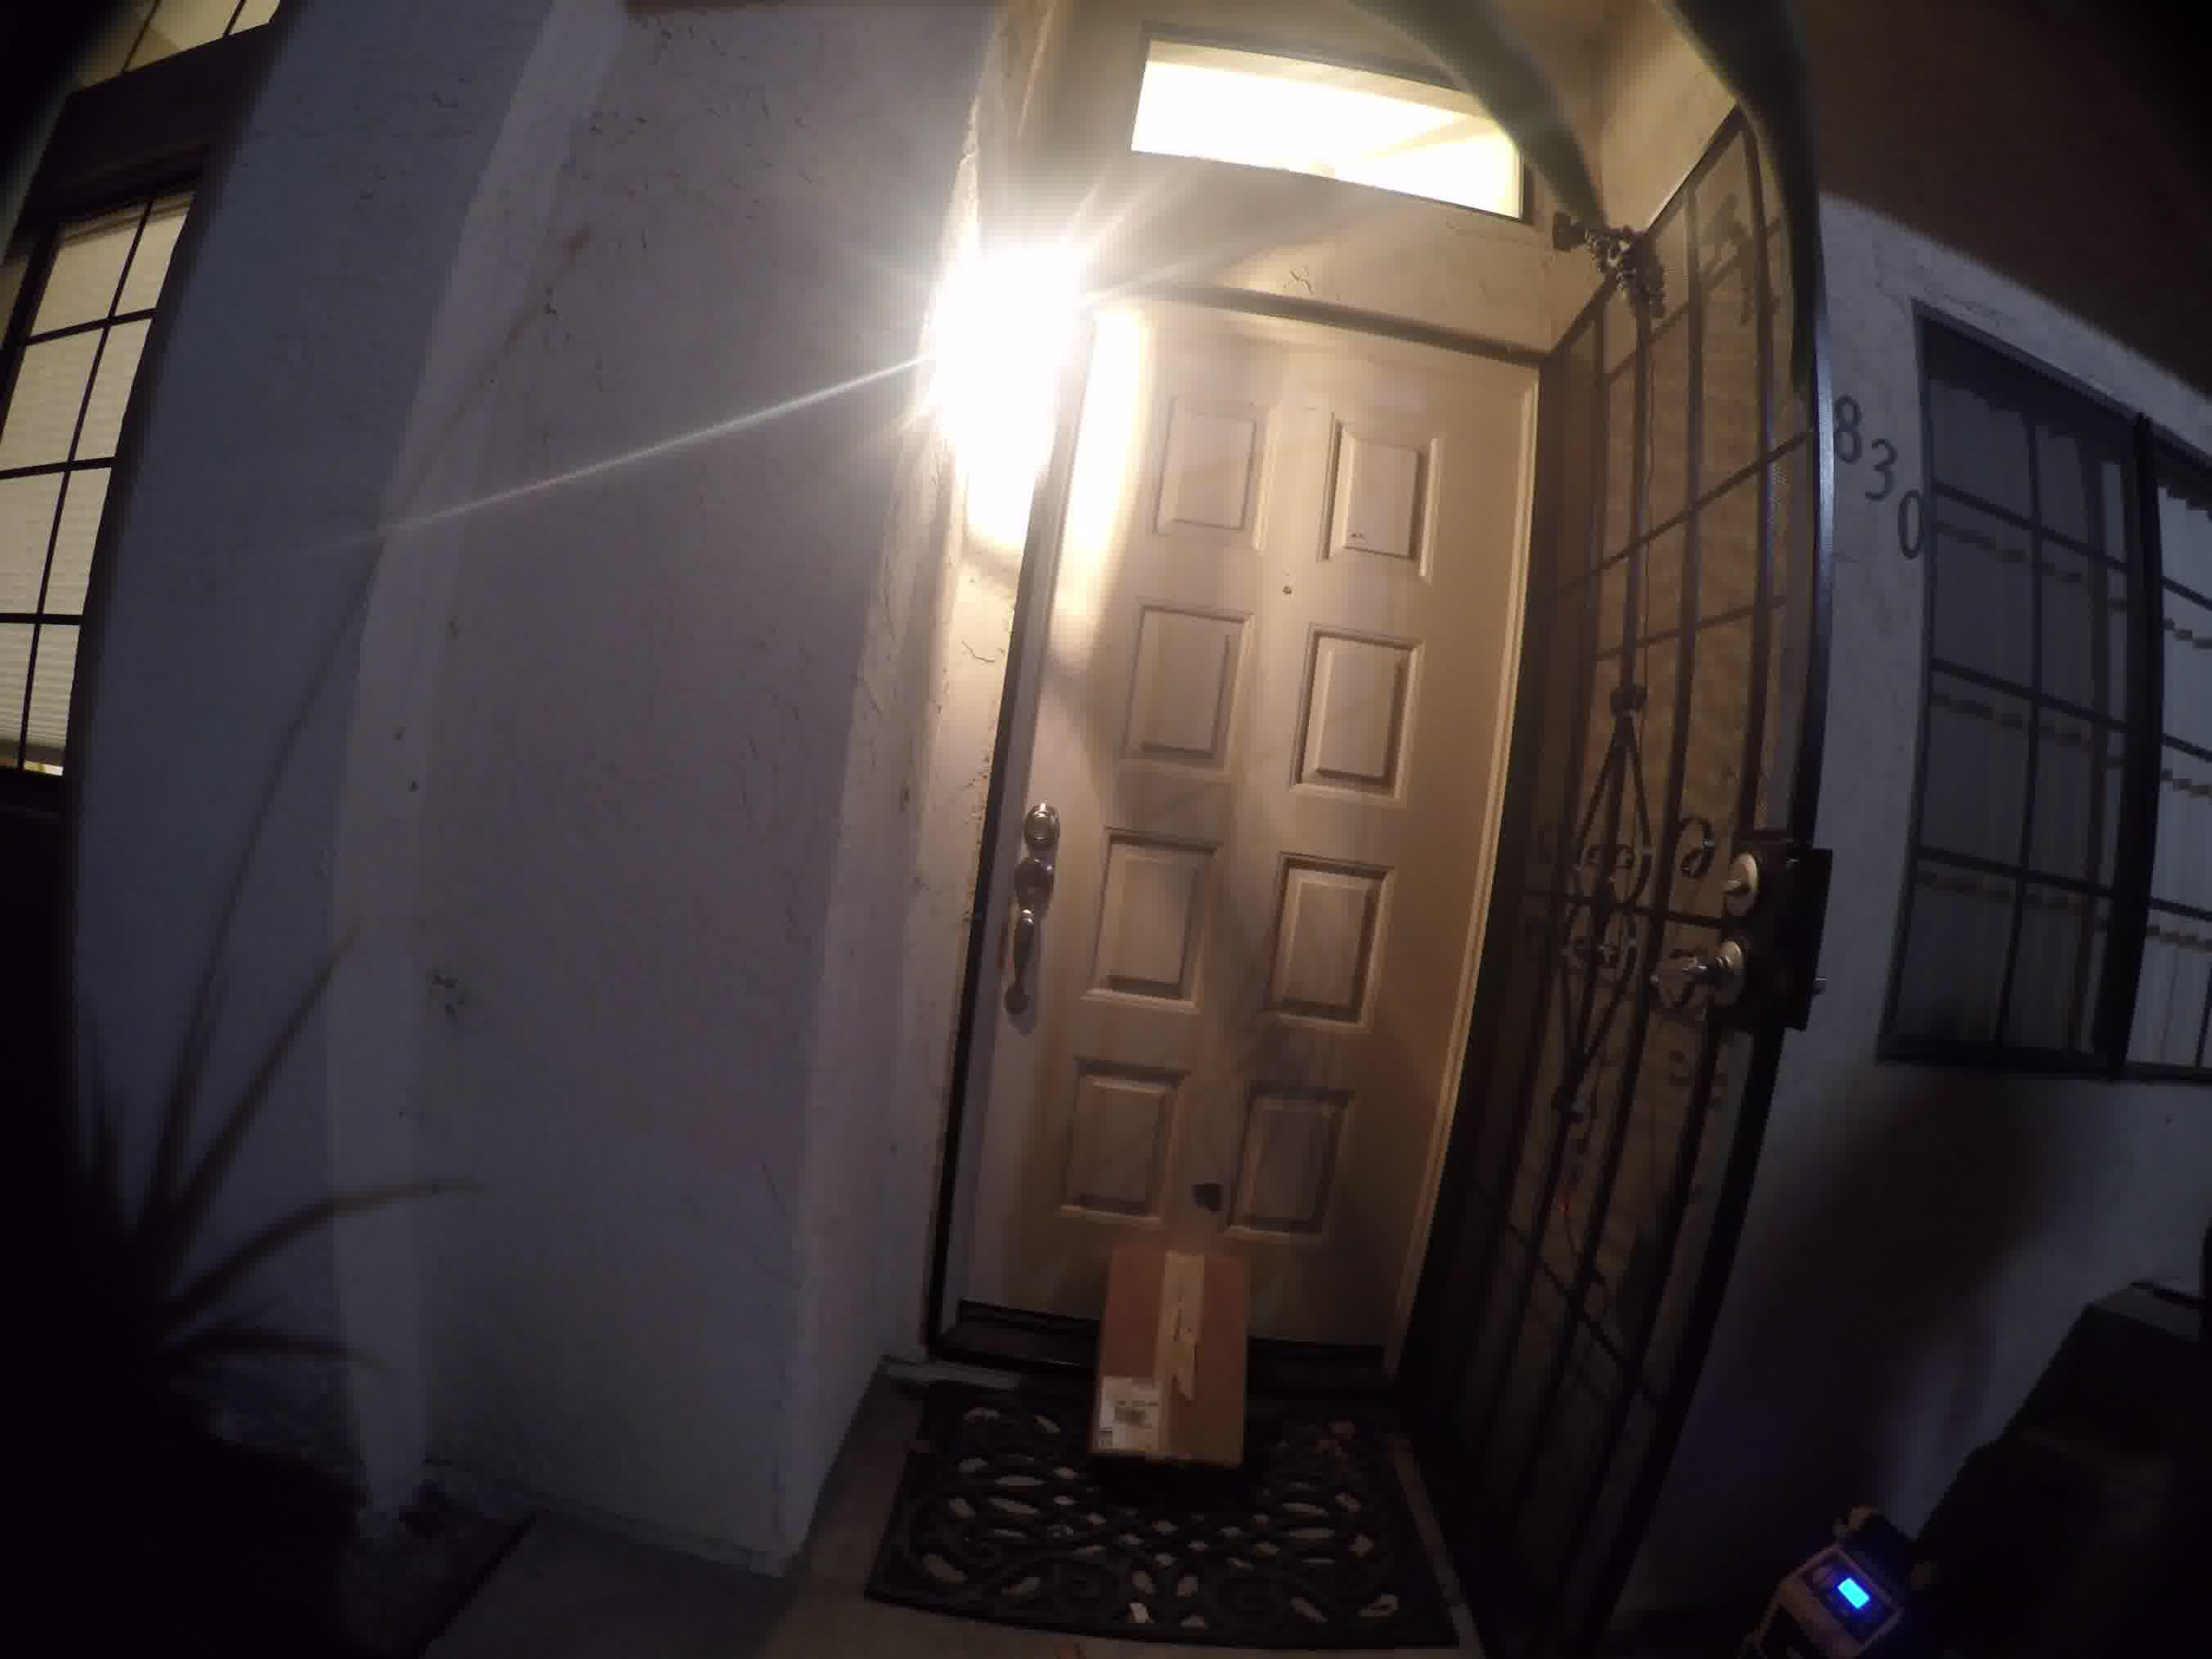box: (1090, 1218, 1268, 1474)
